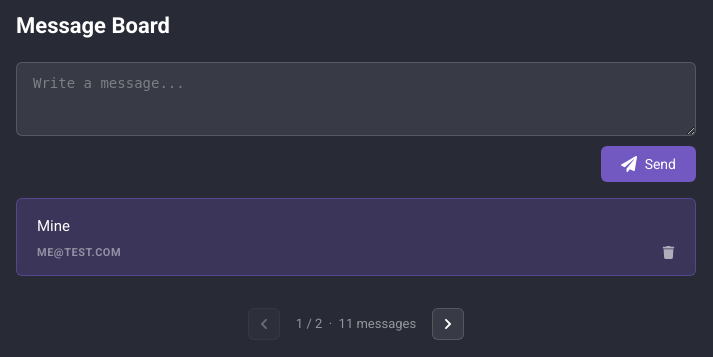
it: Board page › navigates between pages and disables the edge buttons
Expected: the text "Mine" is shown, [37,217,70,235]
Expected: the text "1 / 2 · 11 messages" is shown, [296,316,416,331]
Click the 3rd button. click: (448, 324)
box: [432,308,464,340]
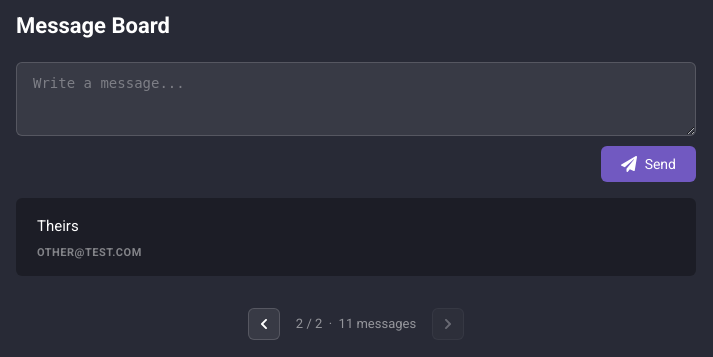
Result: the text "Theirs" is shown at [37,217,79,235]
Result: the text "2 / 2 · 11 messages" is shown at [296,316,416,331]
Click the 2nd button. click: (264, 324)
box: [248,308,280,340]
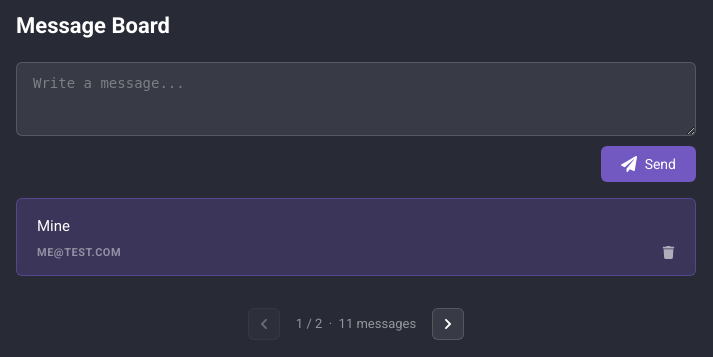
Result: the text "Mine" is shown at [37,217,70,235]
